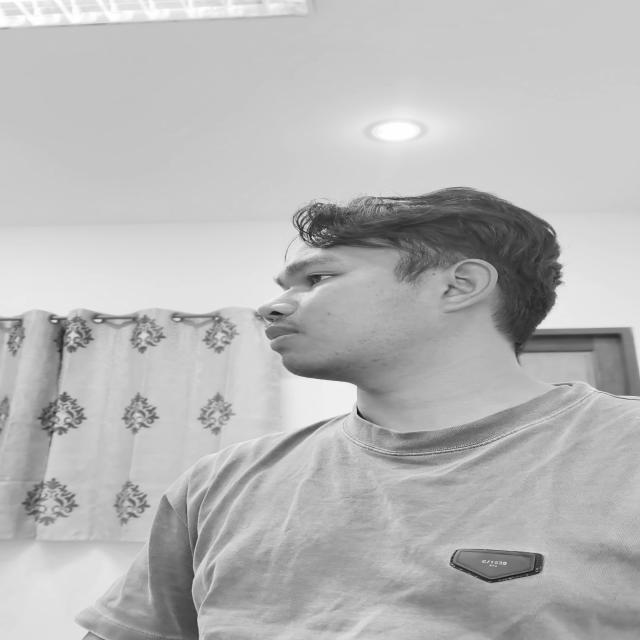ear: (441, 259, 498, 312)
